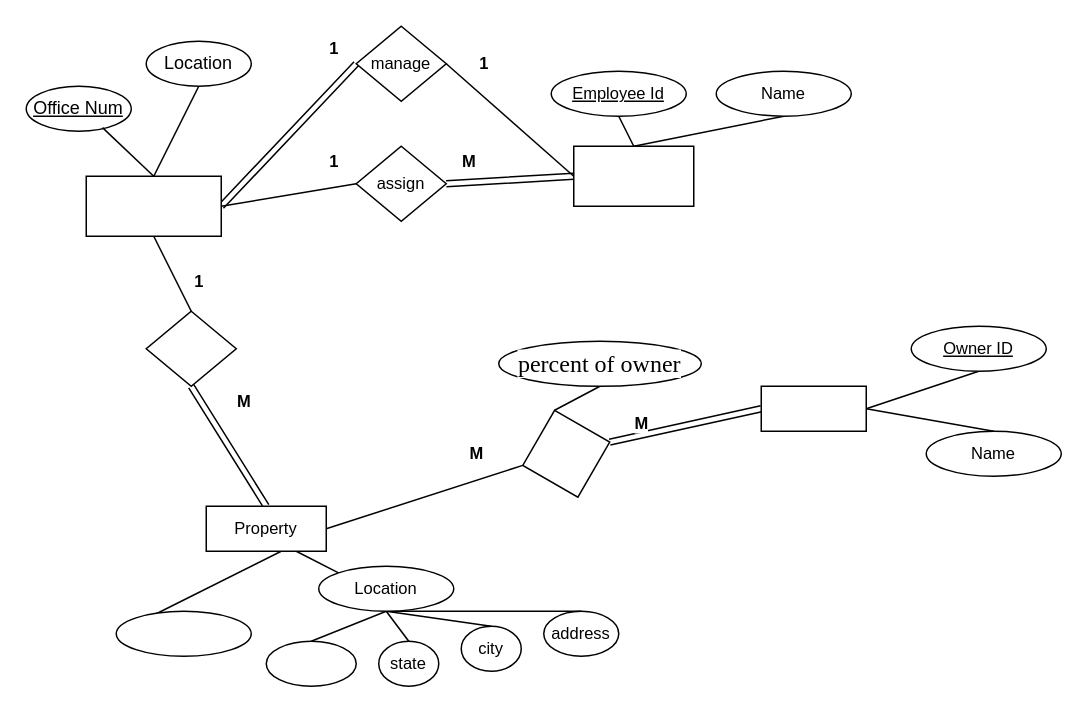
Some shapes in this 1088 by 713 pixel diagram are drawn without their labels. Each missing label, with the centre of its shape:
Employees: the point at 633,175
has: the point at 565,453
Listed: the point at 190,348
Office: the point at 153,205
Owner: the point at 813,408
Property ID: the point at 183,633
zip_code: the point at 310,663
